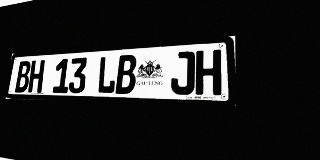1: (53, 58, 71, 93)
3: (68, 57, 87, 93)
B: (115, 54, 137, 94), (15, 61, 31, 92)
H: (195, 49, 221, 95), (28, 60, 45, 93)
J: (170, 51, 195, 95)
L: (97, 56, 117, 94)
